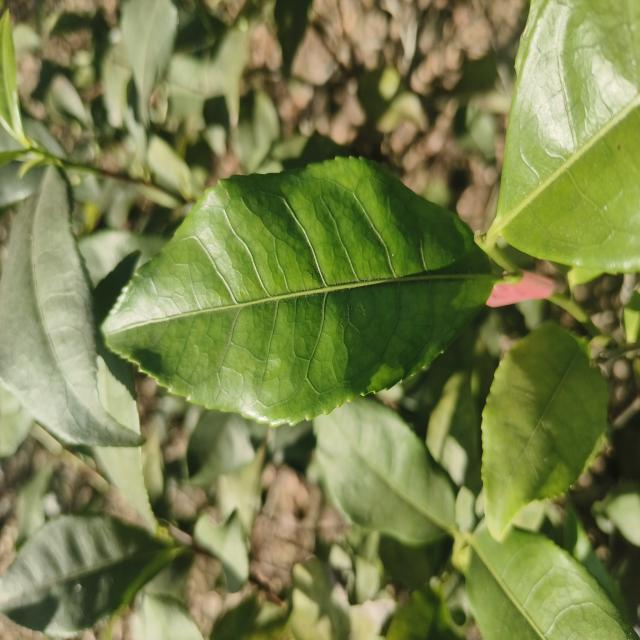Leaf: (103, 158, 493, 424), (488, 0, 640, 272), (0, 167, 141, 446), (482, 322, 607, 540), (0, 514, 175, 638), (313, 398, 455, 544), (465, 521, 635, 640), (121, 0, 177, 125), (426, 371, 482, 494), (187, 410, 270, 488), (0, 11, 28, 148), (237, 91, 280, 173), (134, 594, 203, 640), (49, 74, 90, 124)
